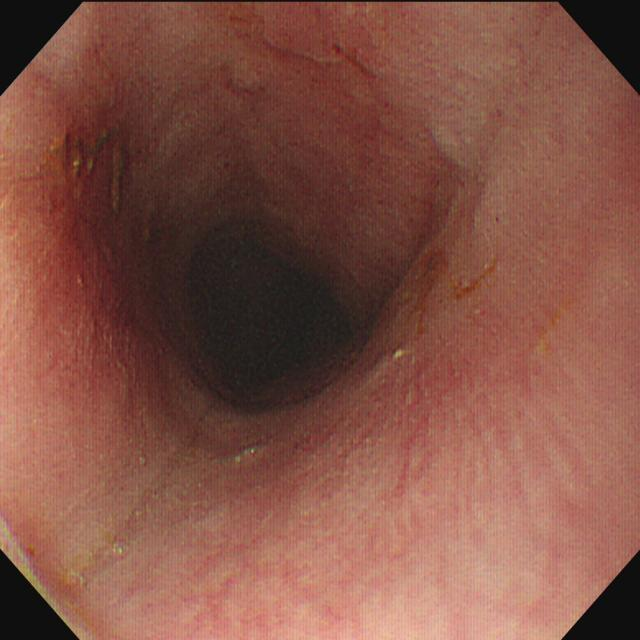E: (162, 183, 380, 422)
J: (44, 128, 135, 222)
